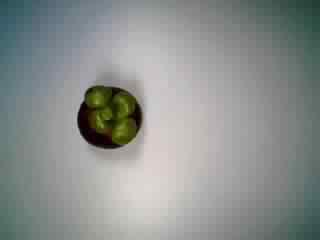mangosteen: (75, 82, 145, 150)
